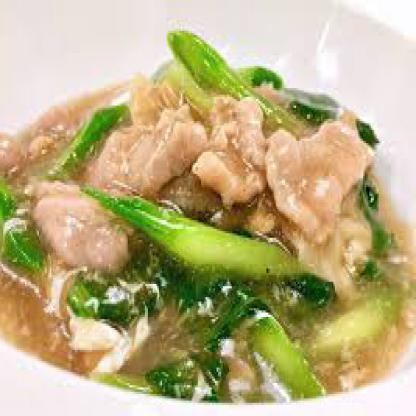Laadna: (1, 20, 415, 416)
